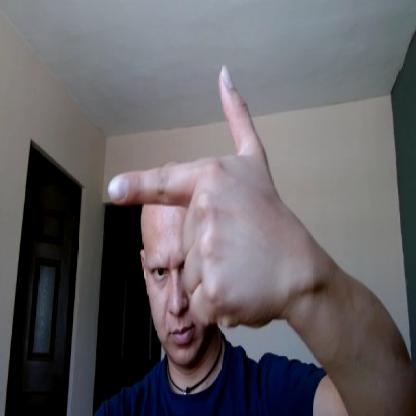G: (105, 59, 280, 323)
